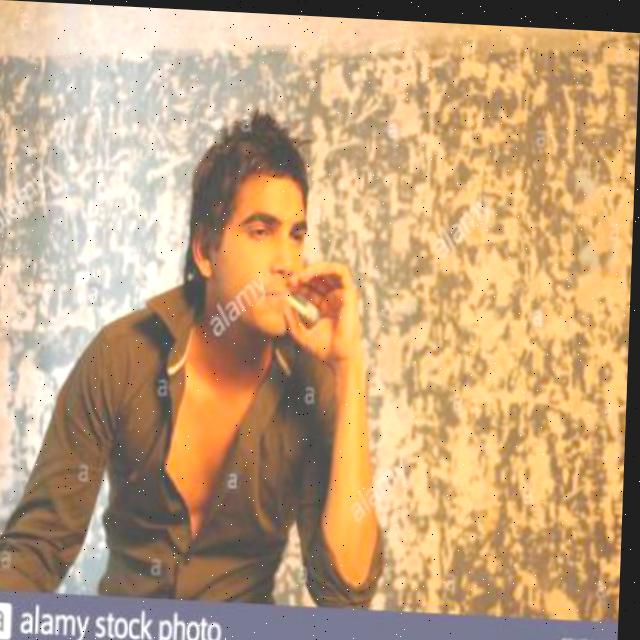cigarette: (288, 288, 317, 321)
